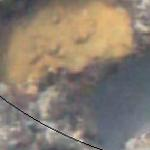alive: (1, 5, 147, 148)
